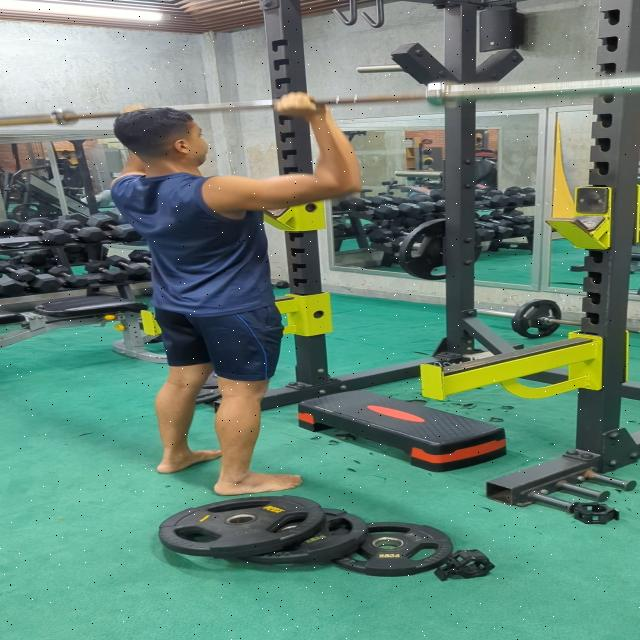Normal_OverheadPress: (110, 87, 373, 498)
